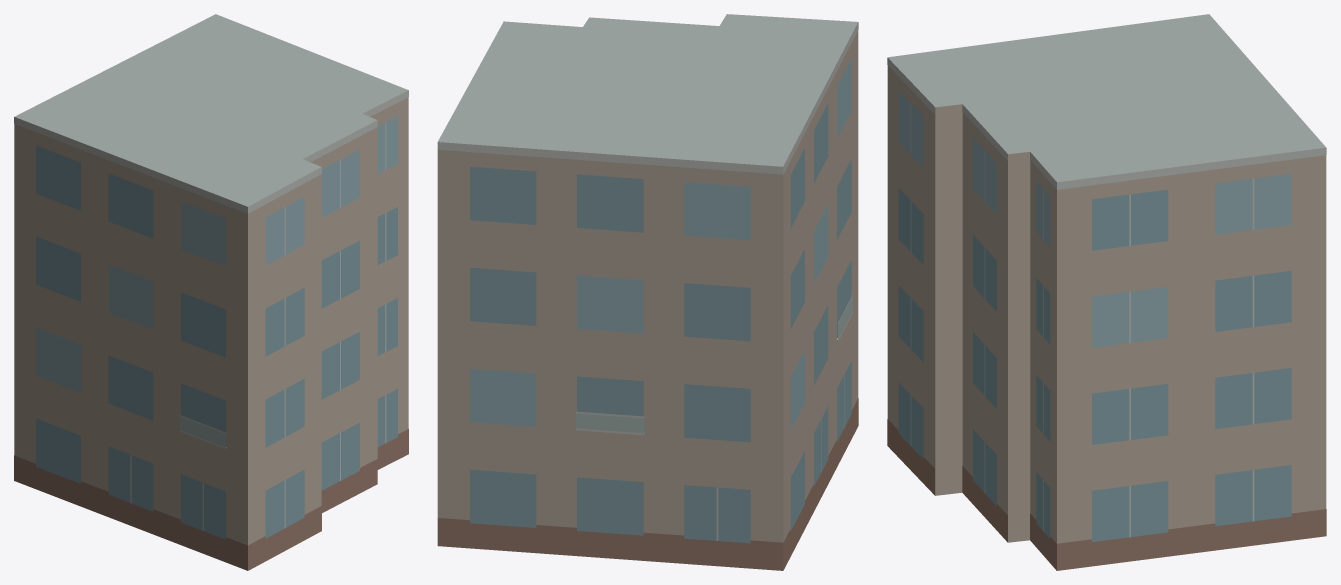
Rendered from survey-upis-32683743.glb.
3 renders of one model, left to right at view 1: azimuth 30°, elevation 25°; view 2: azimuth 150°, elevation 25°; view 3: azimuth 270°, elevation 25°, orthographic. The views are drawn at different scales.
Parts seen in each view (by area): view 1: survey-upis-32683743.tmp; view 2: survey-upis-32683743.tmp; view 3: survey-upis-32683743.tmp.
Part boxes in pixels (box(x1,y1,x2,y2)): survey-upis-32683743.tmp: box(14, 14, 408, 570); survey-upis-32683743.tmp: box(437, 14, 858, 570); survey-upis-32683743.tmp: box(887, 14, 1326, 570).
Bounding box in the file's own units: 11.81 × 12.7 × 13.01.
